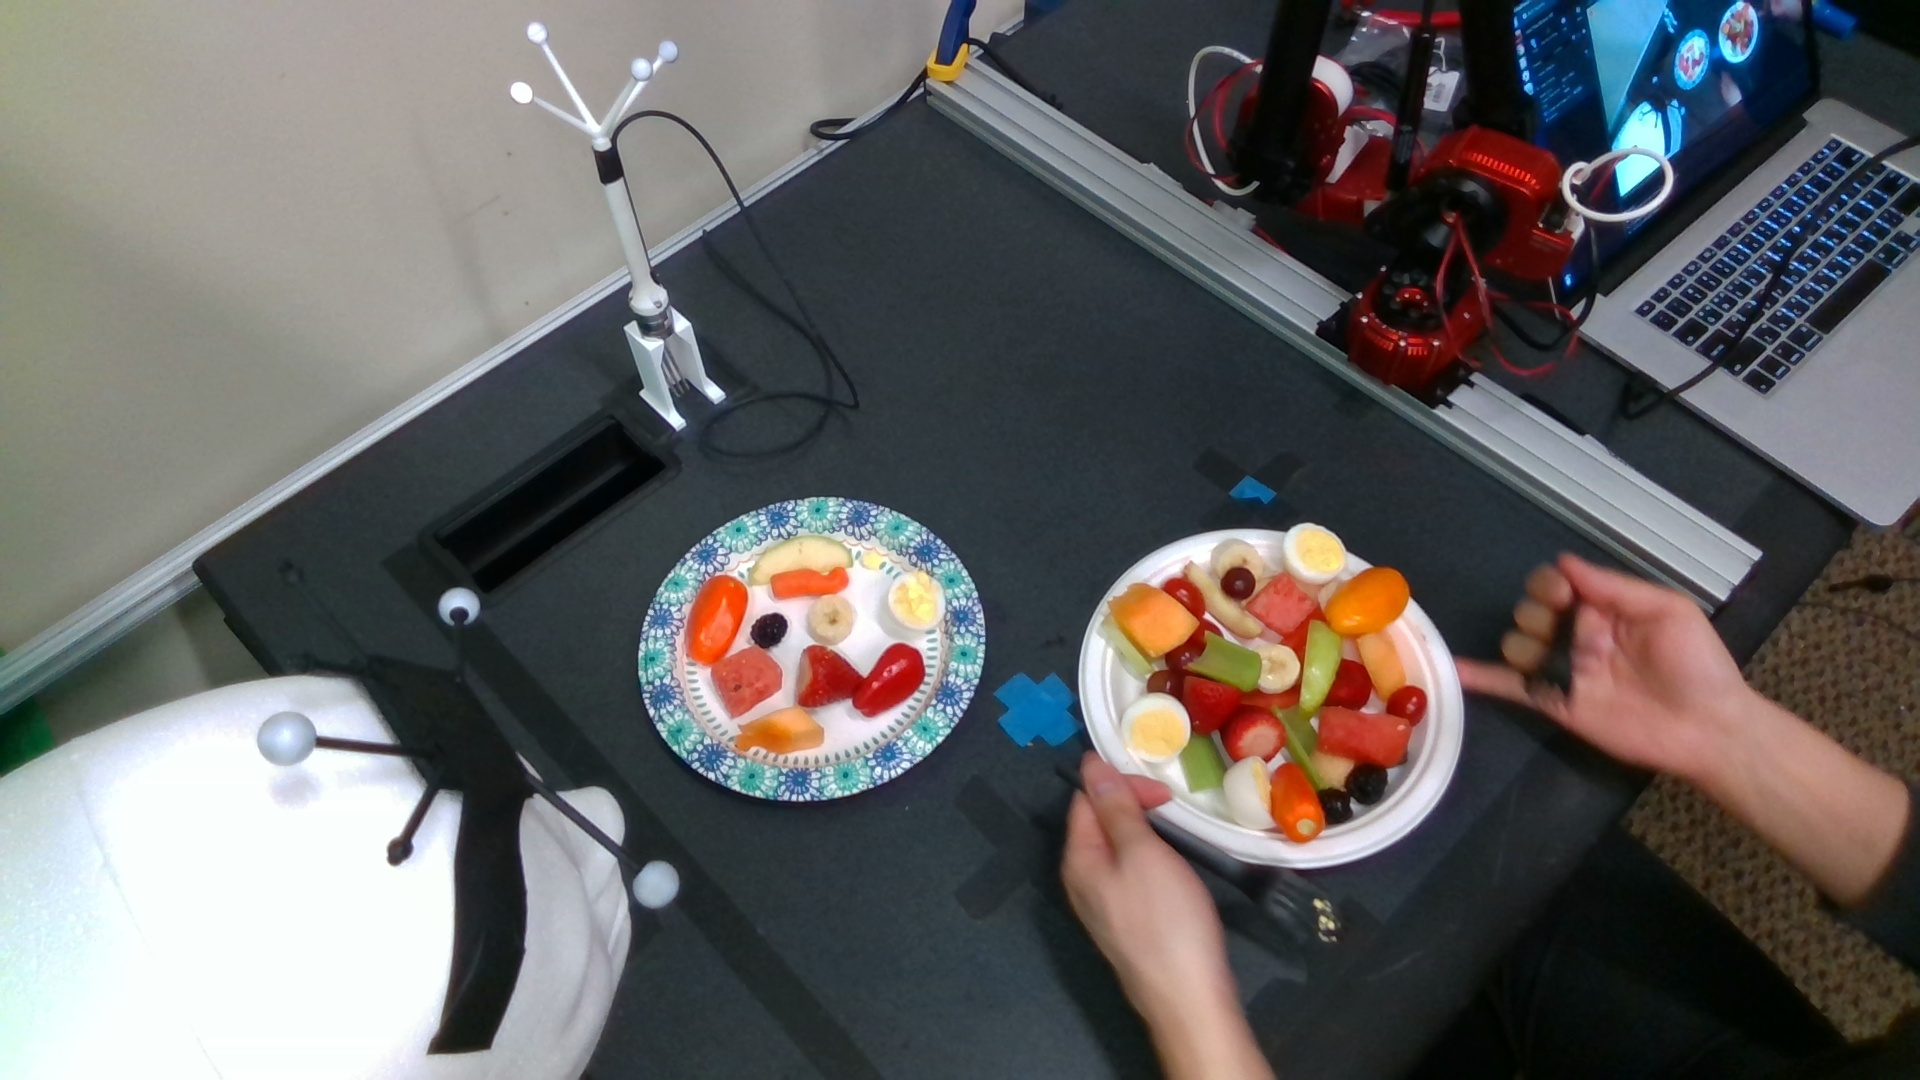apple: (746, 535, 855, 583), (1299, 620, 1342, 711)
banana: (806, 593, 855, 645), (1258, 645, 1302, 694)
bell pepper: (1331, 568, 1408, 636), (853, 644, 924, 716), (688, 576, 746, 663), (1274, 779, 1323, 844)
blackberry: (1346, 764, 1387, 806), (1317, 789, 1353, 824), (752, 613, 789, 647)
cantalope: (1112, 585, 1197, 634), (740, 707, 823, 756), (1357, 633, 1407, 695)
carrot: (771, 566, 851, 597)
celery: (1189, 636, 1261, 694), (1179, 735, 1228, 794)
cherry tomato: (1390, 684, 1425, 727)
egg: (1124, 695, 1189, 761), (1283, 524, 1346, 584), (1225, 756, 1276, 829), (890, 571, 945, 629)
grape: (1220, 568, 1255, 601)
melon: (1317, 705, 1411, 767), (713, 646, 782, 717), (1247, 574, 1316, 632)
plate: (1079, 529, 1461, 866), (637, 497, 986, 800)
strawberry: (795, 644, 865, 709), (1222, 707, 1284, 764), (1185, 676, 1242, 735), (1323, 661, 1367, 713)
